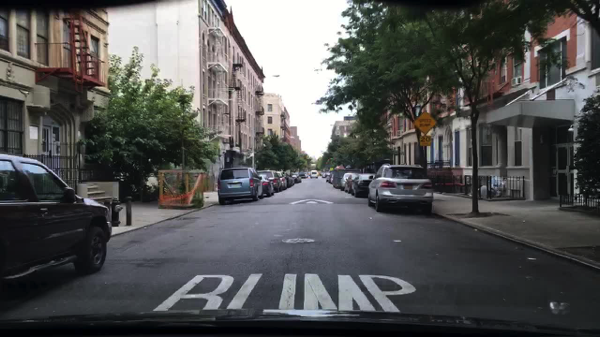car: (0, 153, 114, 294), (367, 161, 433, 216), (216, 167, 263, 202), (351, 174, 377, 196), (256, 174, 275, 198), (258, 170, 279, 191), (342, 176, 359, 193), (338, 173, 355, 187), (274, 170, 287, 188), (280, 172, 295, 185), (308, 170, 319, 179), (291, 171, 300, 182), (299, 173, 308, 179), (326, 172, 331, 182), (321, 173, 328, 177)
traffic sign: (413, 109, 436, 132), (418, 136, 434, 145)
